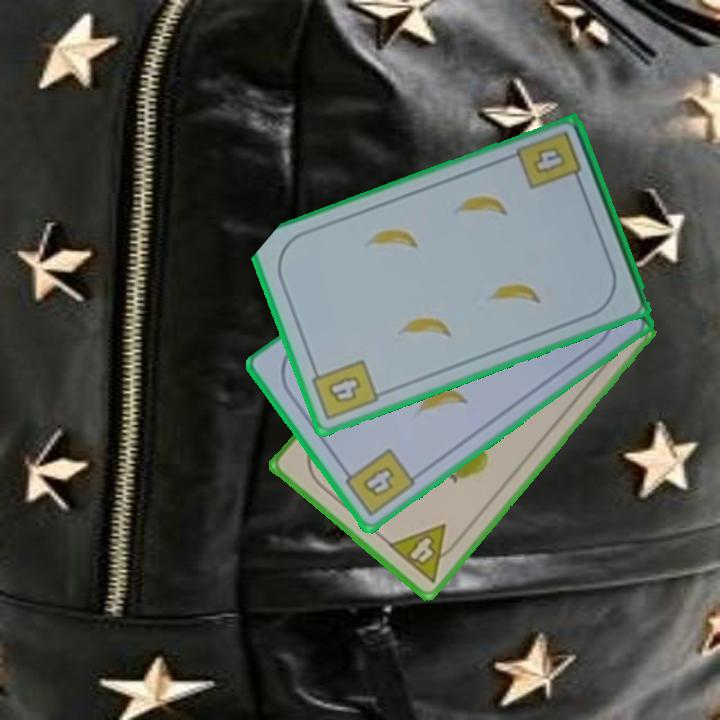4b: (337, 445, 418, 520), (307, 356, 382, 424), (515, 127, 585, 193)
4p: (384, 520, 465, 586)
